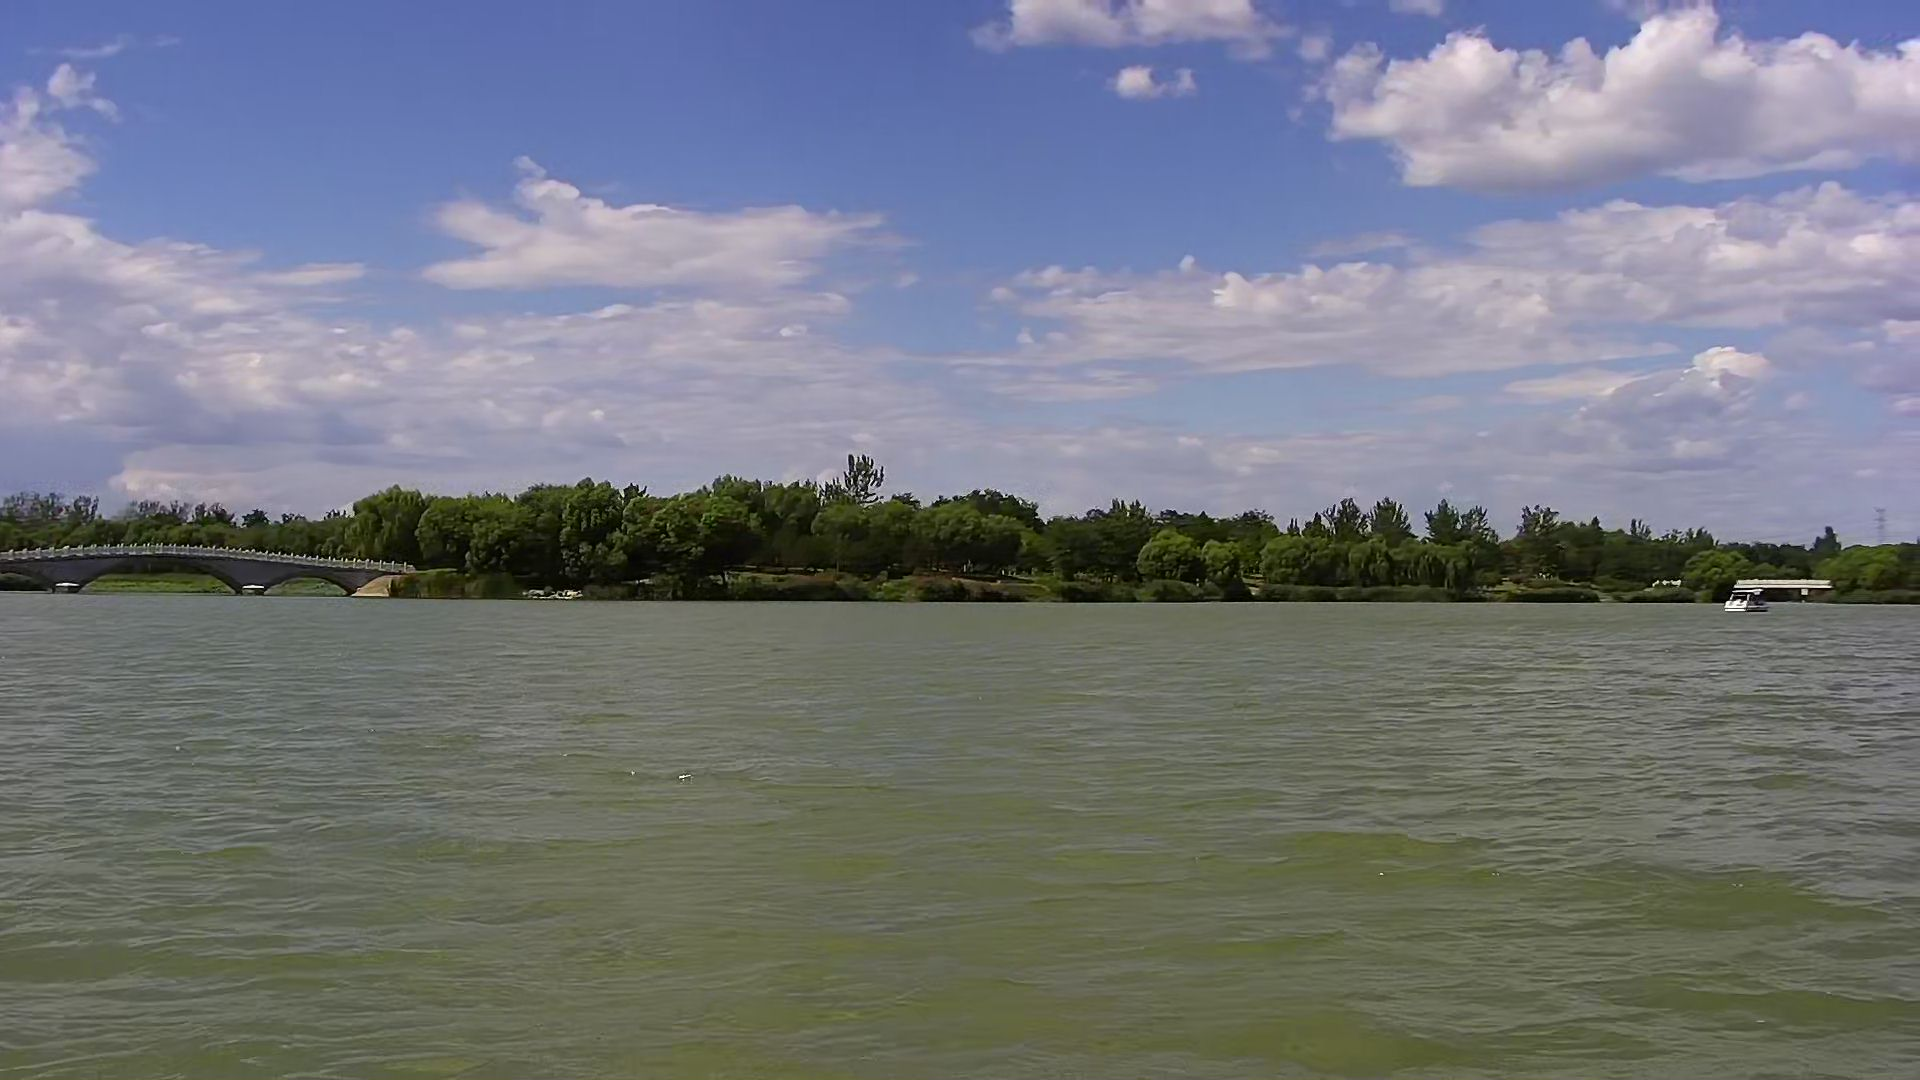boat: (1716, 582, 1774, 617)
bridge: (1, 539, 450, 603)
